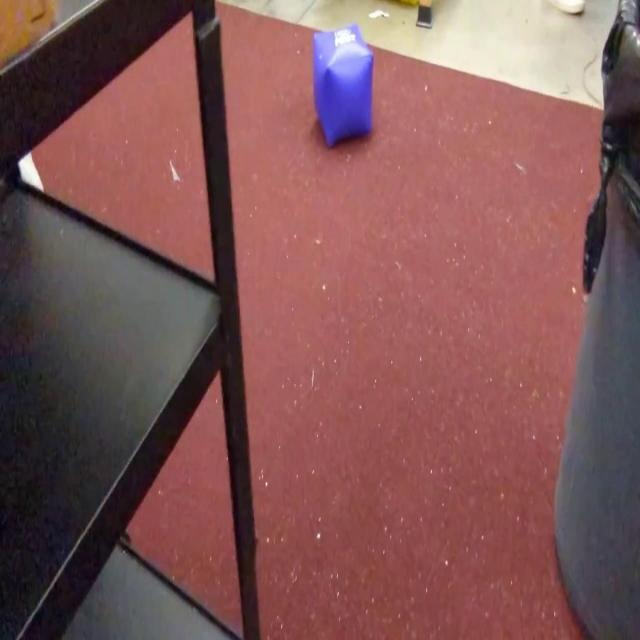frc_cube: (313, 23, 375, 148)
